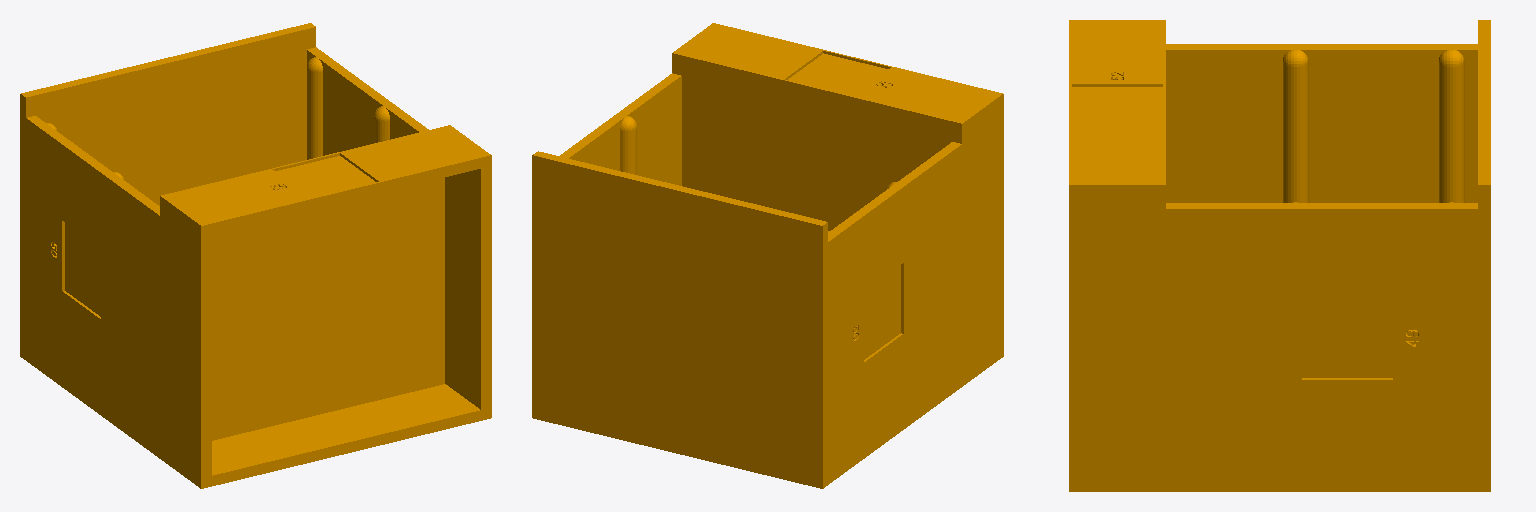
The robot description file, URDF, robot "drawer_DrawerHandle_GX0035_box":
<?xml version="1.0"?>
<robot name="drawer_DrawerHandle_GX0035_box">
    <link name="drawer_DrawerHandle_GX0035_box">
        <visual>
            <geometry>
                <mesh filename="../../mesh/drawer/drawer_DrawerHandle_GX0035/drawer_box.obj" scale="1 1 1"/>
            </geometry>
        </visual>
        <collision>
            <geometry>
                <mesh filename="../../mesh/drawer/drawer_DrawerHandle_GX0035/drawer_box.obj" scale="1 1 1"/>
            </geometry>
            <sdf resolution="512"/>
        </collision>
    </link>
</robot>

--- Render facts (derived) ---
3 views of the same robot in one strip: view 1: azimuth 30°, elevation 25°; view 2: azimuth 150°, elevation 25°; view 3: azimuth 270°, elevation 25° (orthographic).
Model drawer_DrawerHandle_GX0035_box with 1 links and 0 joints (none), rooted at drawer_DrawerHandle_GX0035_box, posed all joints at 0.
Visible links, largest first — view 1: drawer_DrawerHandle_GX0035_box; view 2: drawer_DrawerHandle_GX0035_box; view 3: drawer_DrawerHandle_GX0035_box.
Boxes of the visible links, <box> form: drawer_DrawerHandle_GX0035_box: <box>20,23,491,488</box>; drawer_DrawerHandle_GX0035_box: <box>532,23,1003,488</box>; drawer_DrawerHandle_GX0035_box: <box>1069,20,1490,491</box>.
Size in the robot's own frame: 0.1125 by 0.1215 by 0.0975 metres.
Meshes: 1 distinct files referenced, 1 mesh visuals loaded (1 OBJ).